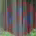No Stopping: (2, 0, 35, 33)
